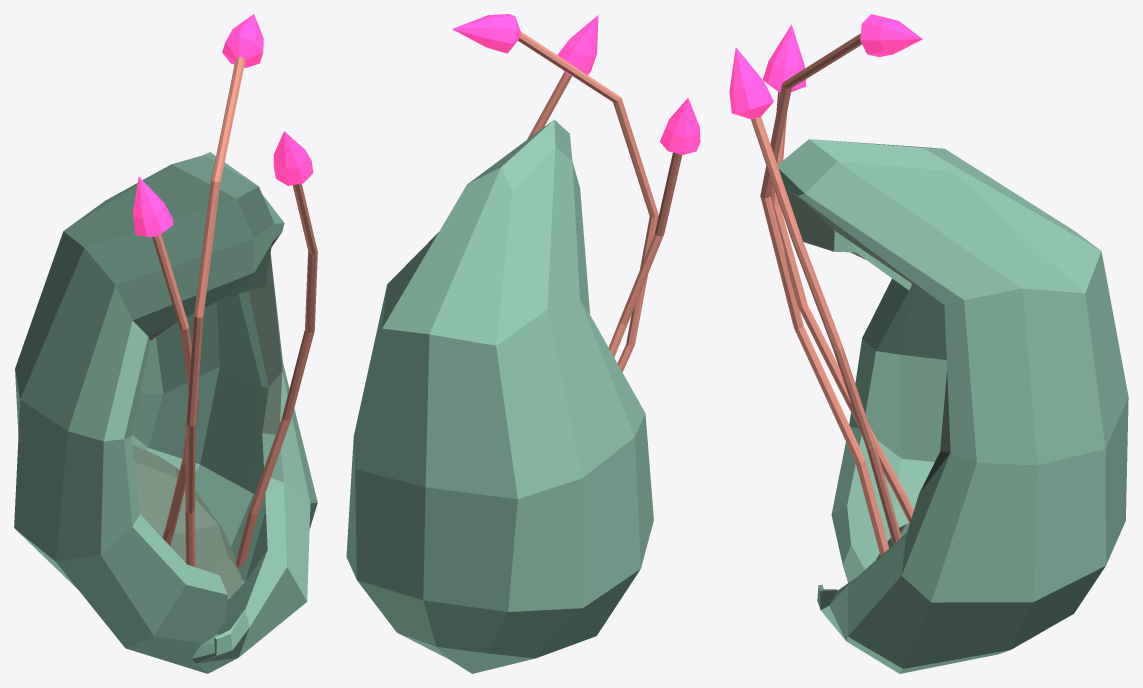
Rendered from Plant_14_Var_06.fbx.
The picture shows the model from 3 angles, left to right: view 1: azimuth 30°, elevation 25°; view 2: azimuth 150°, elevation 25°; view 3: azimuth 270°, elevation 25°; orthographic projection. The views are drawn at different scales.
Parts seen in each view (by area): view 1: Plant_14_Var_06; view 2: Plant_14_Var_06; view 3: Plant_14_Var_06.
Boxes of the visible parts, bbox=[...] form: Plant_14_Var_06: bbox=[14, 14, 317, 673]; Plant_14_Var_06: bbox=[346, 14, 700, 673]; Plant_14_Var_06: bbox=[729, 14, 1128, 673].
Bounding box in the file's own units: 0.4596 × 0.8529 × 0.3644.
